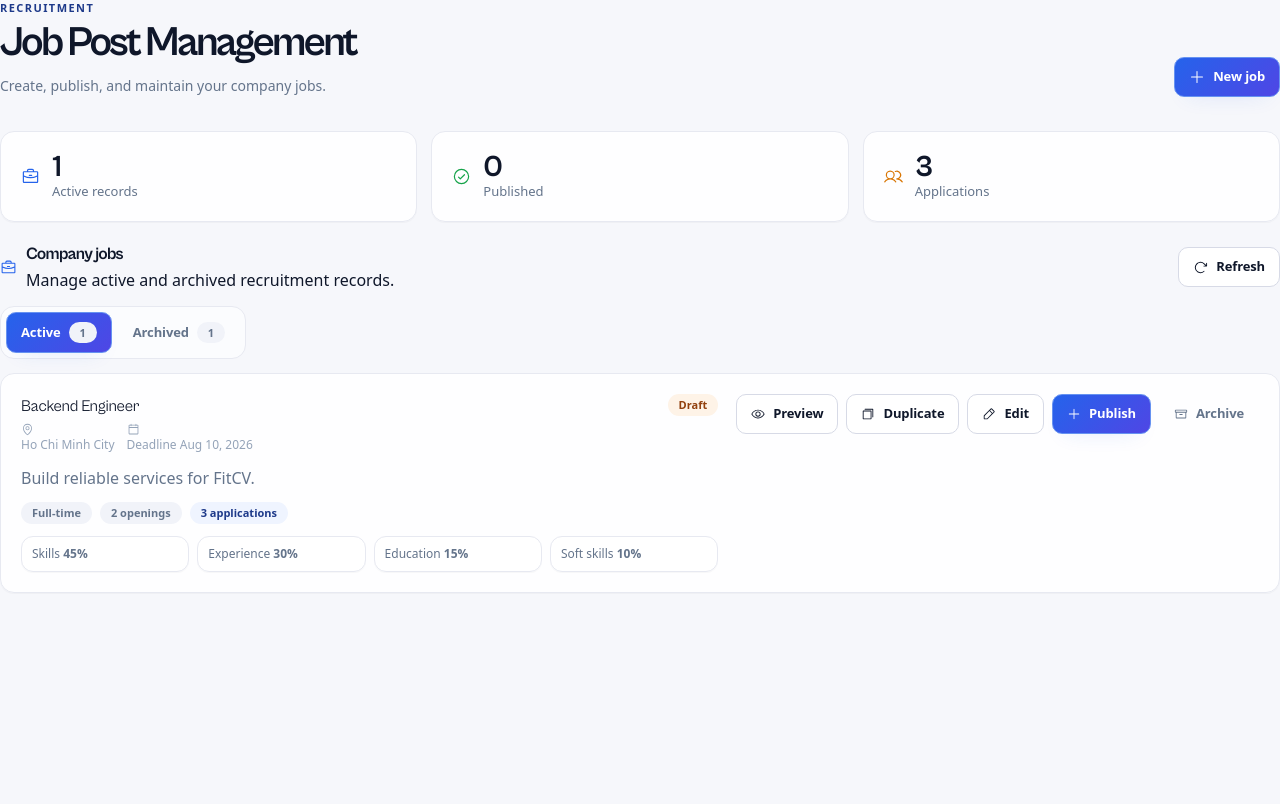
JobPostsScreen › extracts an AI draft and keeps it in review before saving
Expected: the heading "Backend Engineer" is shown, [21,397,139,415]
Click the button "New job" at (1227, 77), box [1174,57,1279,97]
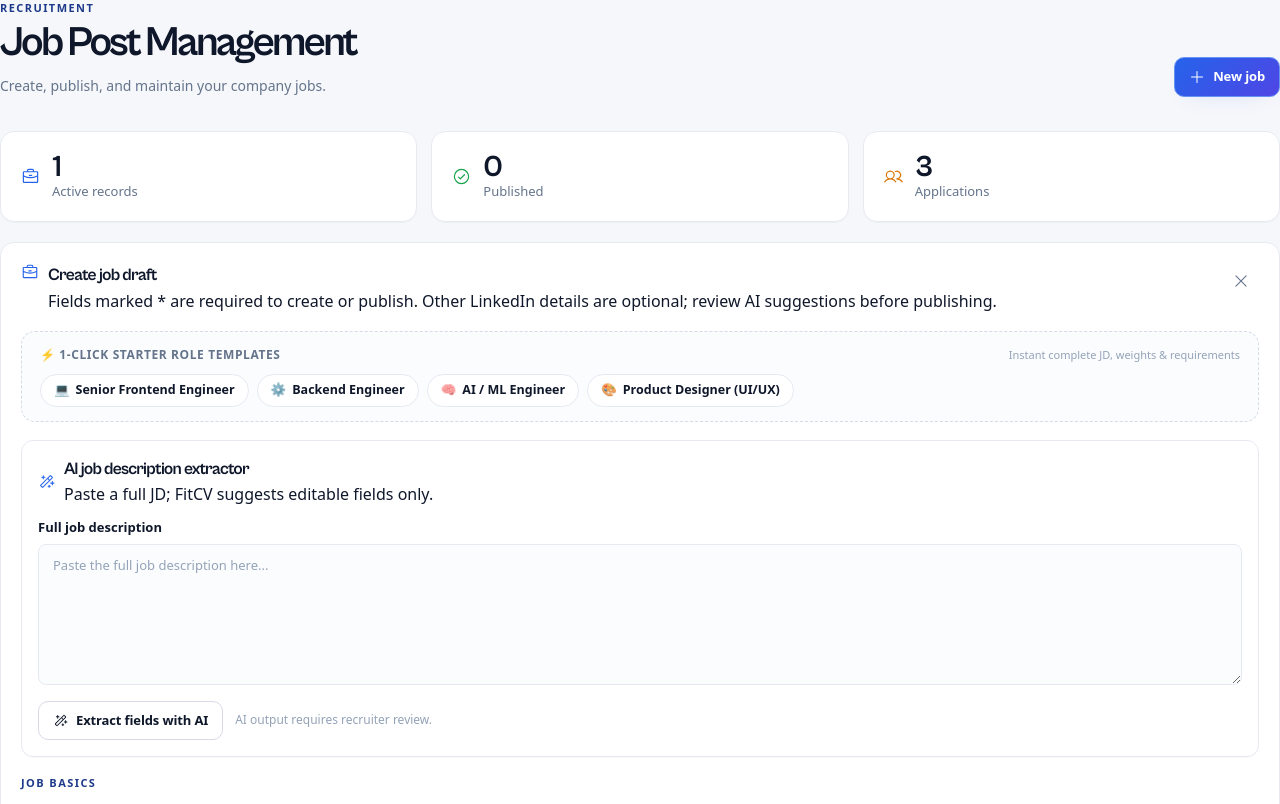
Type "We need an experienced backend engineer to build reliable APIs with Python and FastAPI in Ho Chi Minh City." into the text box labelled "Full job description" at (640, 614), box [38,544,1242,685]
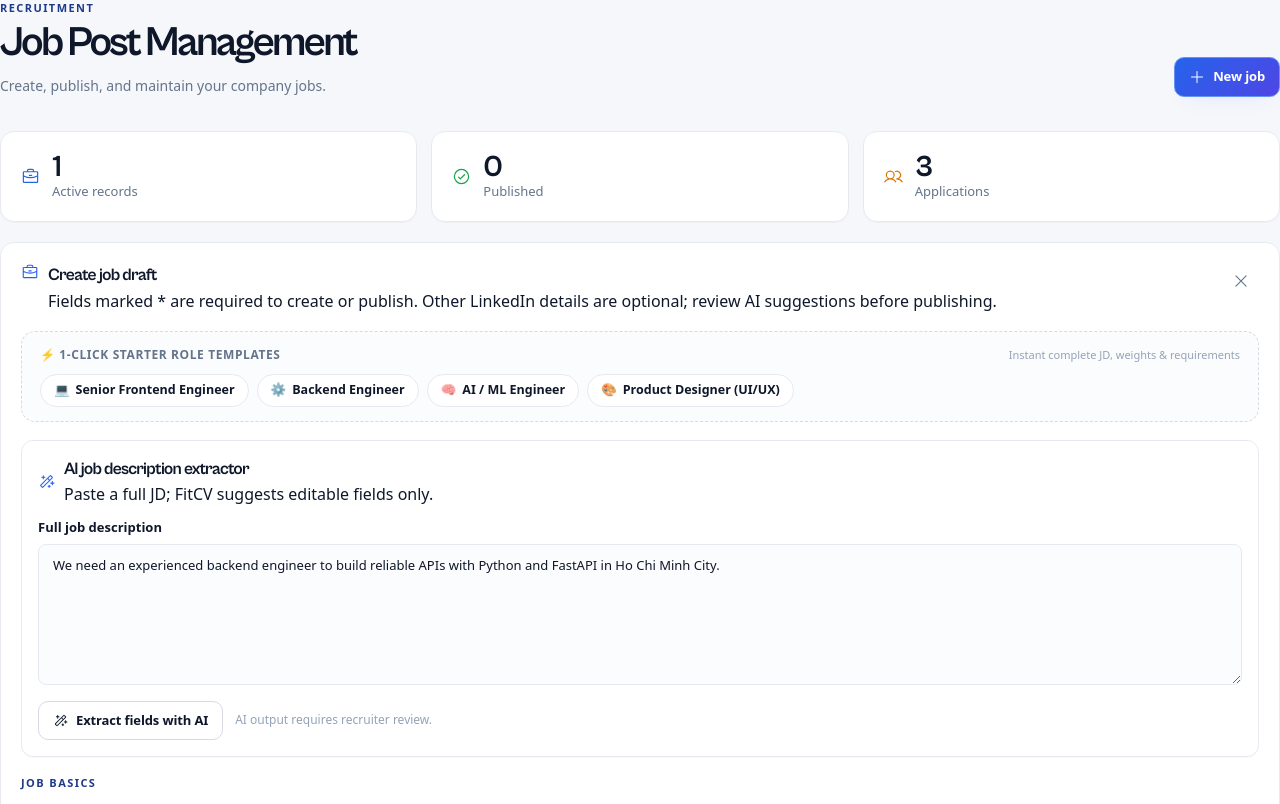
Click the button "Extract fields with AI" at (131, 720), box [38,701,223,740]
(page scrolled)
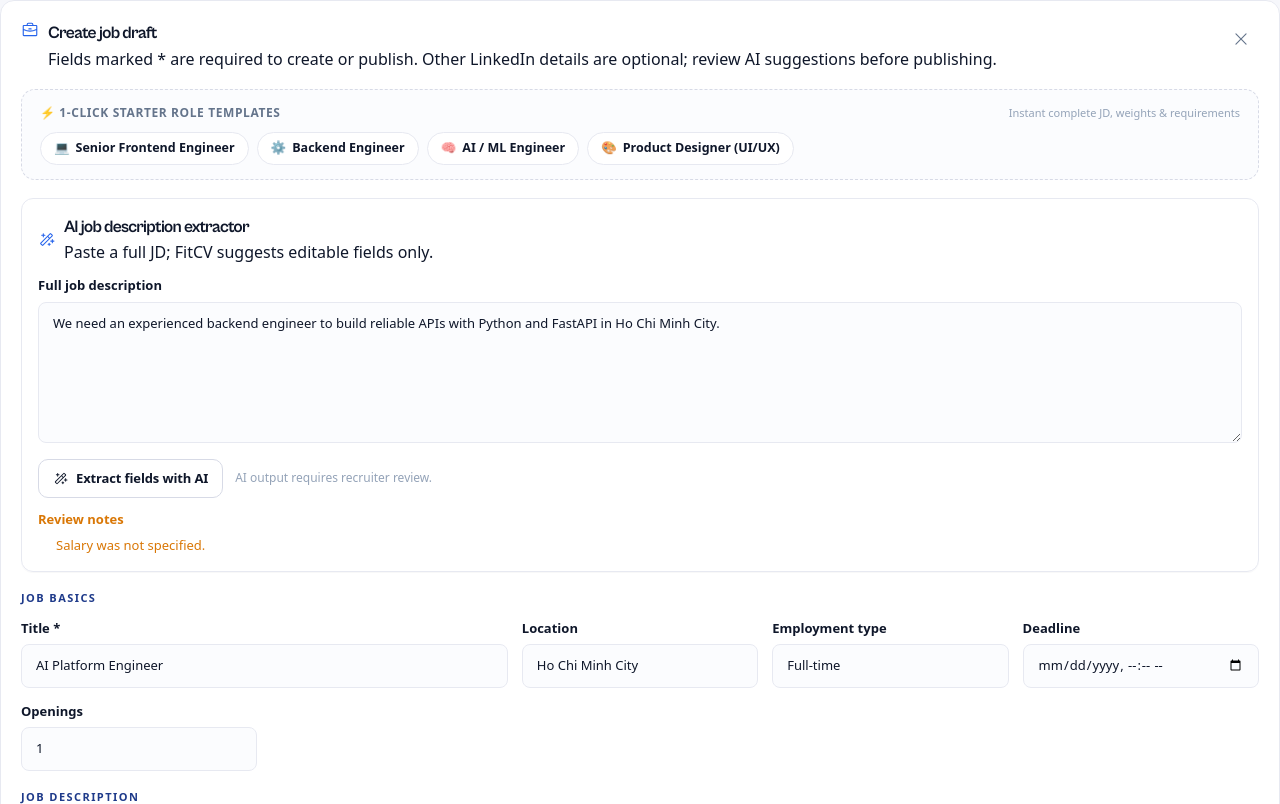
Now the field showing "AI Platform Engineer" is shown, box [21,644,508,688]
Now the list item "Salary was not specified." is shown, box [56,536,205,554]
